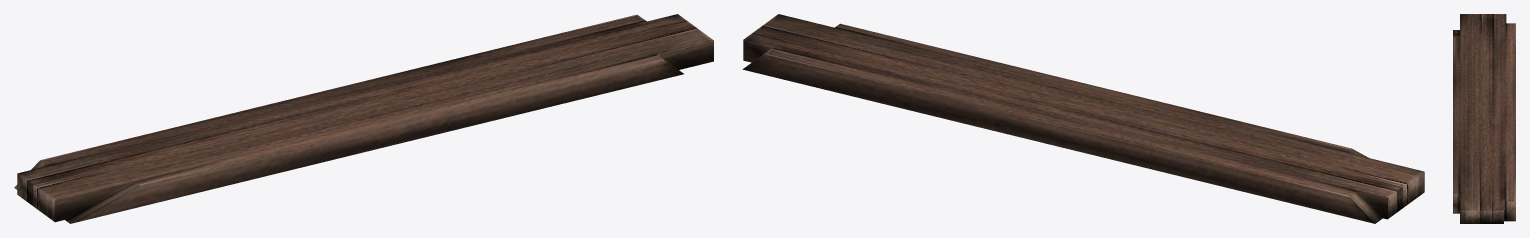
Rendered from stbr9.dae.
3 renders of one model, left to right at view 1: azimuth 30°, elevation 25°; view 2: azimuth 150°, elevation 25°; view 3: azimuth 270°, elevation 25°, orthographic. The views are drawn at different scales.
Visible parts, largest first — view 1: base; view 2: base; view 3: base.
Part boxes in pixels (x1,y1,x2,y2): base: (14,14,713,223); base: (742,14,1424,223); base: (1453,14,1515,223).
Bounding box in the file's own units: 3.69 × 0.497 × 0.1133.
Materials: 1 (1 with a texture image).
